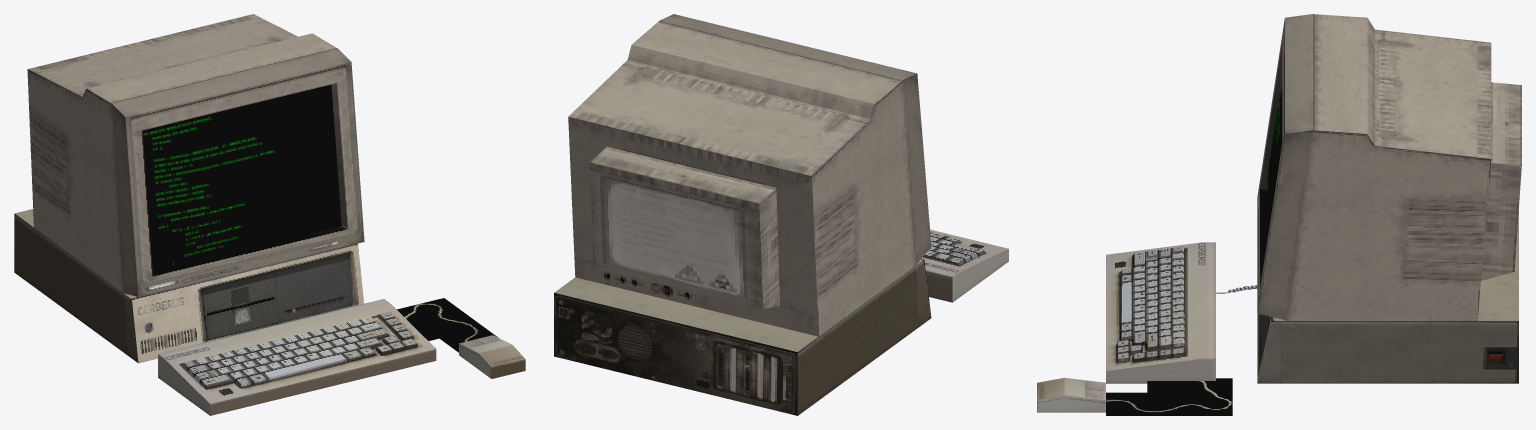
File: comp.glb
The picture shows the model from 3 angles, left to right: view 1: azimuth 30°, elevation 25°; view 2: azimuth 150°, elevation 25°; view 3: azimuth 270°, elevation 25°; orthographic projection. The views are drawn at different scales.
Visible parts, largest first — view 1: Cube.003; view 2: Cube.003; view 3: Cube.003.
Part boxes in pixels (x1,y1,x2,y2): Cube.003: (14,14,525,415); Cube.003: (554,14,1008,415); Cube.003: (1037,14,1521,415).
Size of the model in its own units: 2.6 by 2.03 by 3.52.
Materials: 5 (5 with a texture image).
